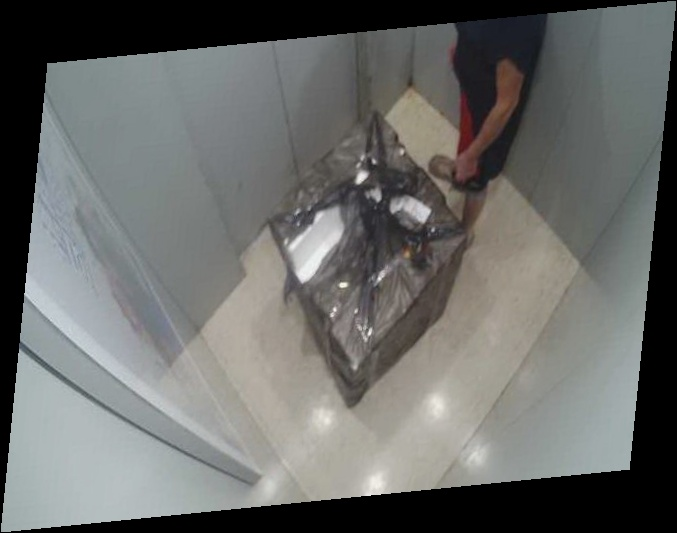box: (236, 113, 468, 392)
